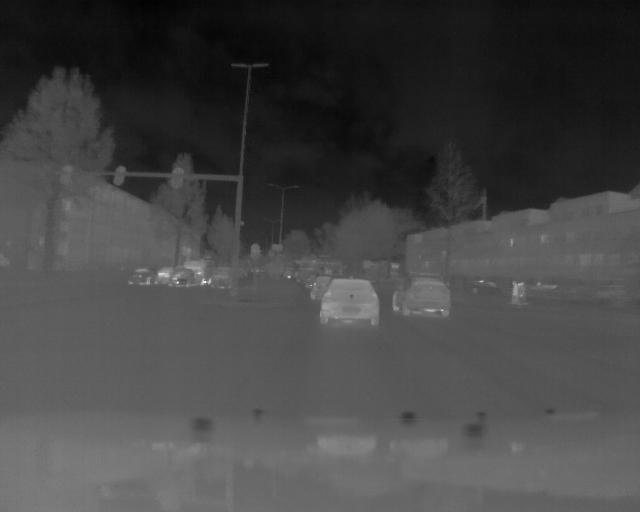car: (319, 278, 381, 327), (392, 276, 452, 317), (127, 266, 160, 287)
person: (511, 280, 519, 308)
